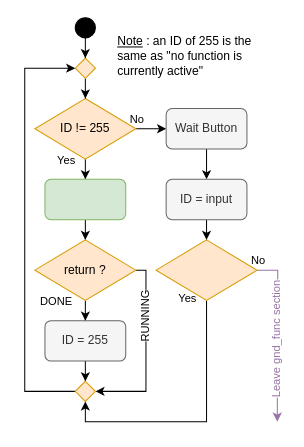
The diagram is 304 pixels wide and 447 high, and some of its shapes have lost their labels. Here are the shapes that lost their labels. From the top down, the centre of each, then its label:
[85,199]: gnd_func[ID]()
[206,269]: ID != 0
